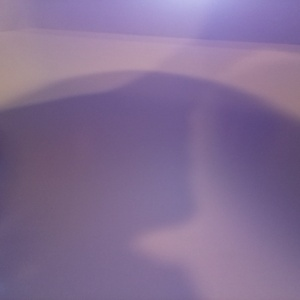dead_ball: (1, 91, 90, 293), (1, 254, 129, 300)
